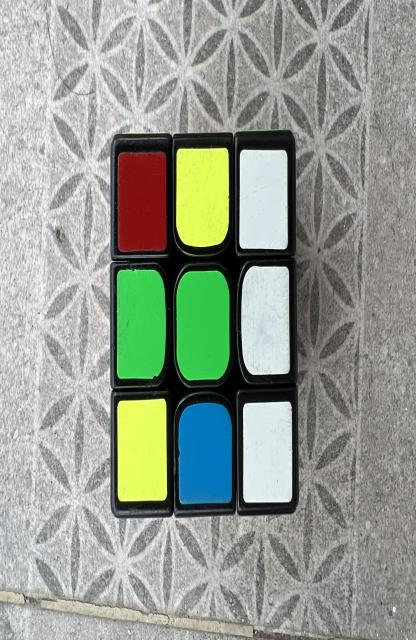Blue: (179, 403, 232, 505)
Green: (176, 270, 230, 380), (117, 270, 167, 378)
Red: (118, 152, 167, 252)
White: (241, 267, 290, 375), (243, 402, 292, 503), (240, 150, 288, 250)
Yellow: (176, 148, 229, 247), (117, 398, 167, 502)
